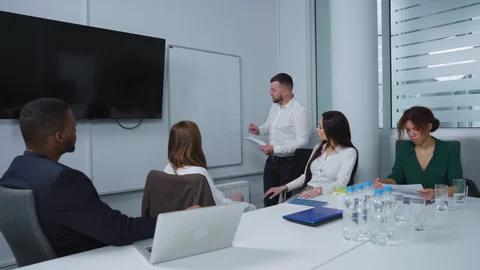jacket: (0, 151, 160, 259)
long sleeve shirt: (164, 161, 257, 212), (389, 138, 463, 198), (284, 141, 358, 196), (257, 96, 311, 157)
trousers: (262, 152, 304, 209)
